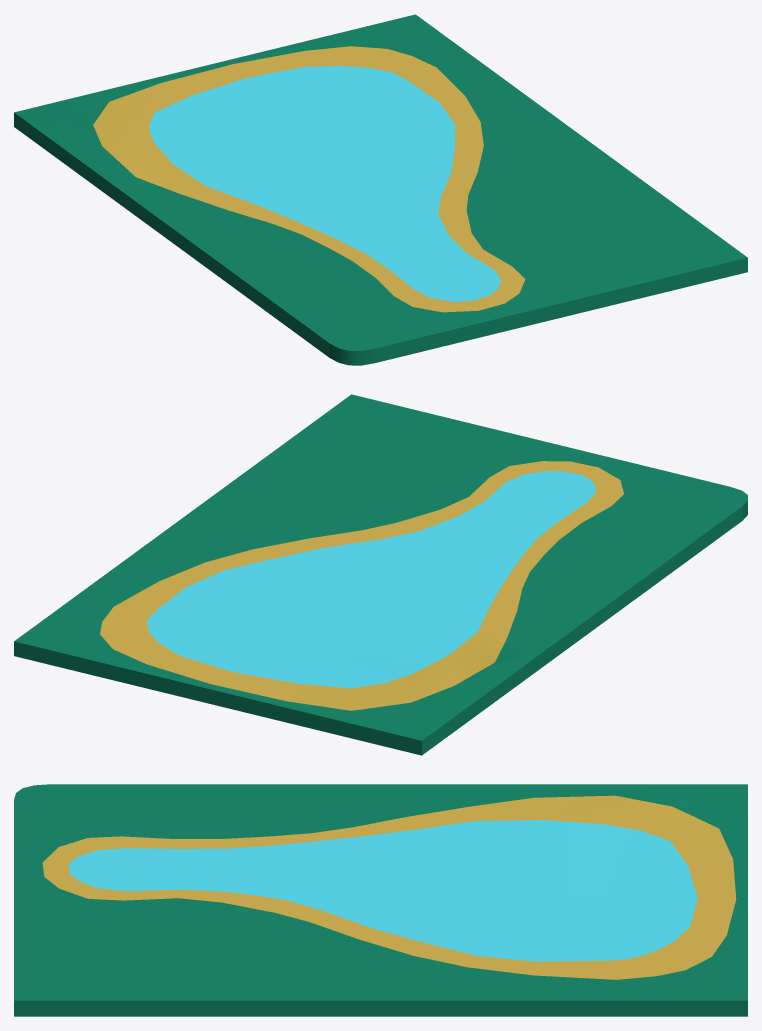
The model's file is water01_s01.FBX.
3 renders of one model, top to bottom at view 1: azimuth 30°, elevation 25°; view 2: azimuth 150°, elevation 25°; view 3: azimuth 270°, elevation 25°, orthographic. The views are drawn at different scales.
Parts seen in each view (by area): view 1: water01_s01; view 2: water01_s01; view 3: water01_s01.
Part boxes in pixels (x1,y1,x2,y2): water01_s01: (14, 14, 747, 365); water01_s01: (14, 394, 747, 755); water01_s01: (14, 784, 747, 1016).
Bounding box in the file's own units: 708 × 1014 × 30.1.
Materials: 1 (1 with a texture image).
